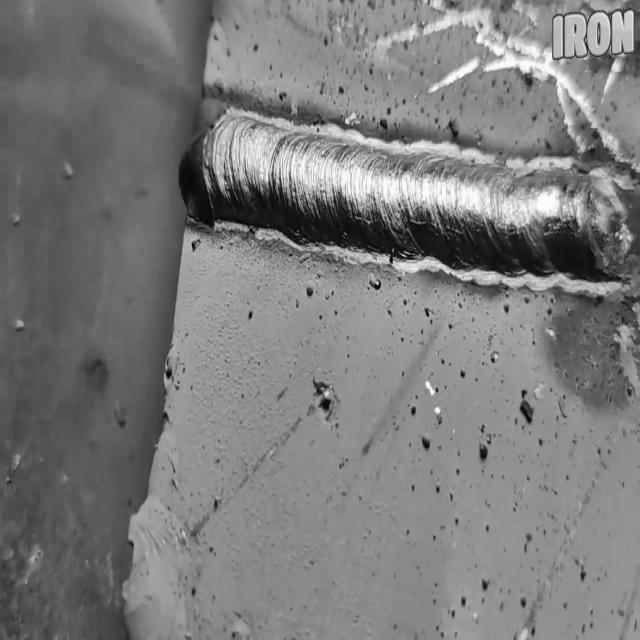Good Welding: (216, 108, 548, 266)
